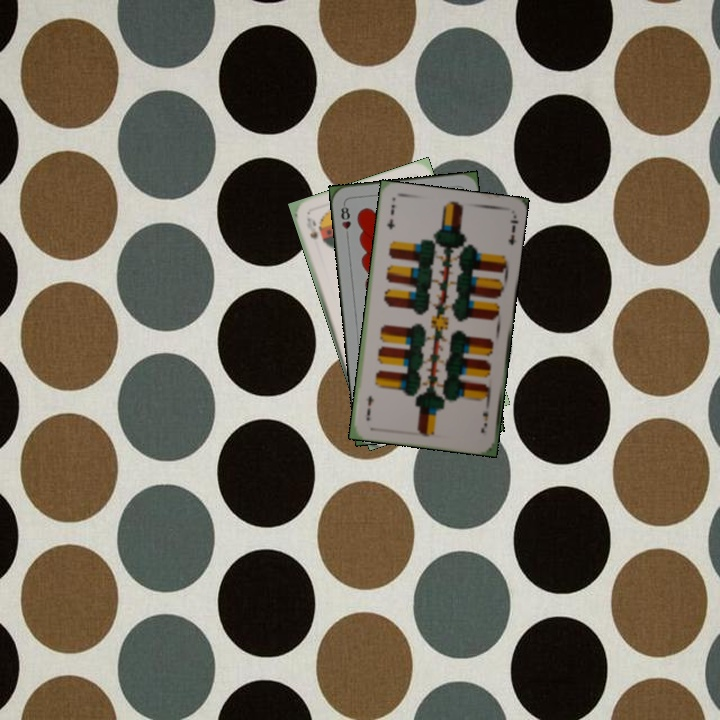E7: (477, 398, 492, 435), (383, 200, 398, 232)
H8: (337, 200, 353, 240)
SO: (302, 214, 320, 242)
